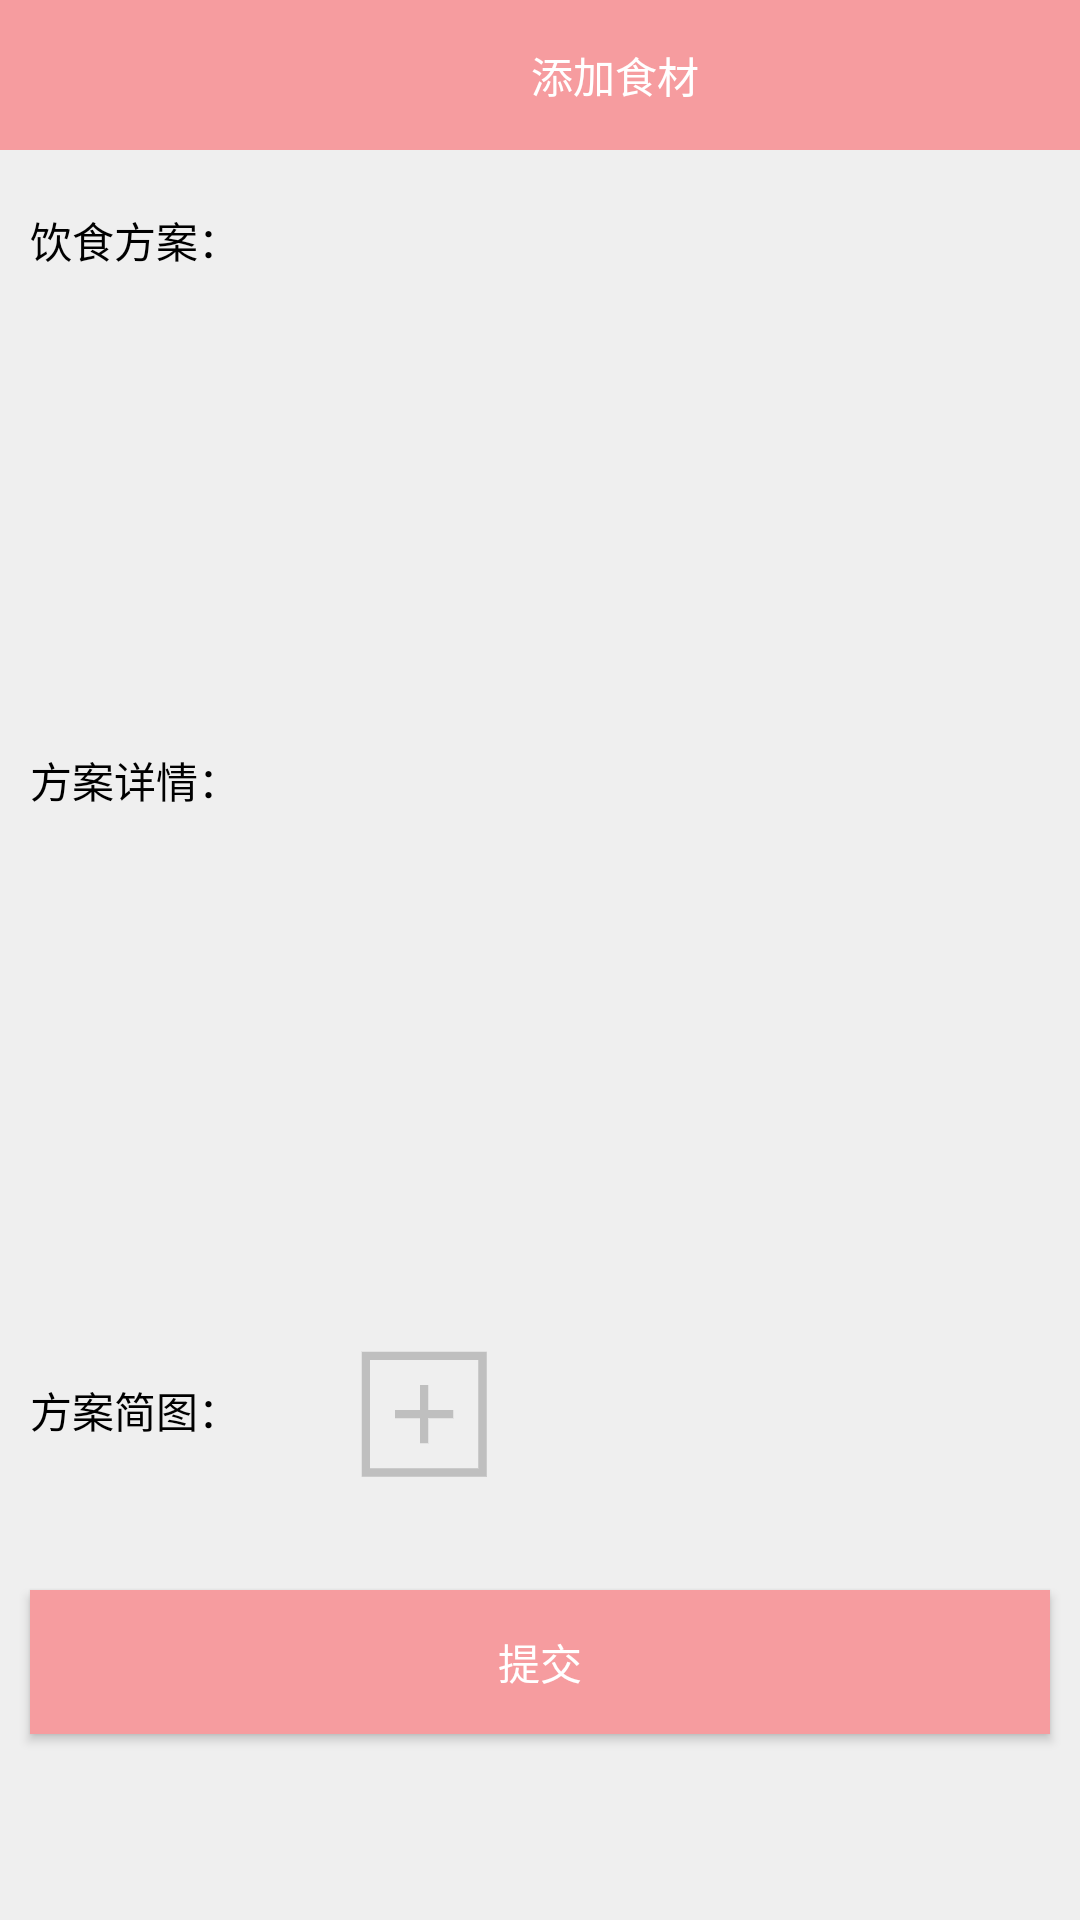

Screen size 1080 × 1920. Icon name, then its box in pixels as region(x1, y1, x2, y2):
add: region(362, 1352, 487, 1477)
